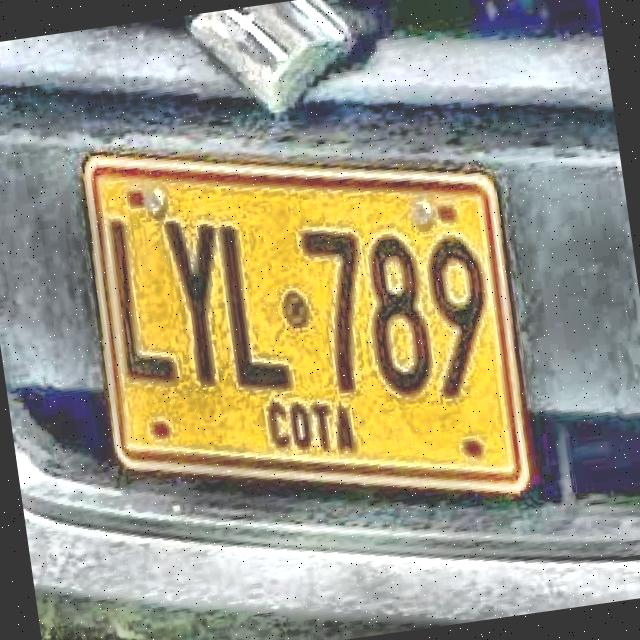plate: (91, 168, 525, 477)
